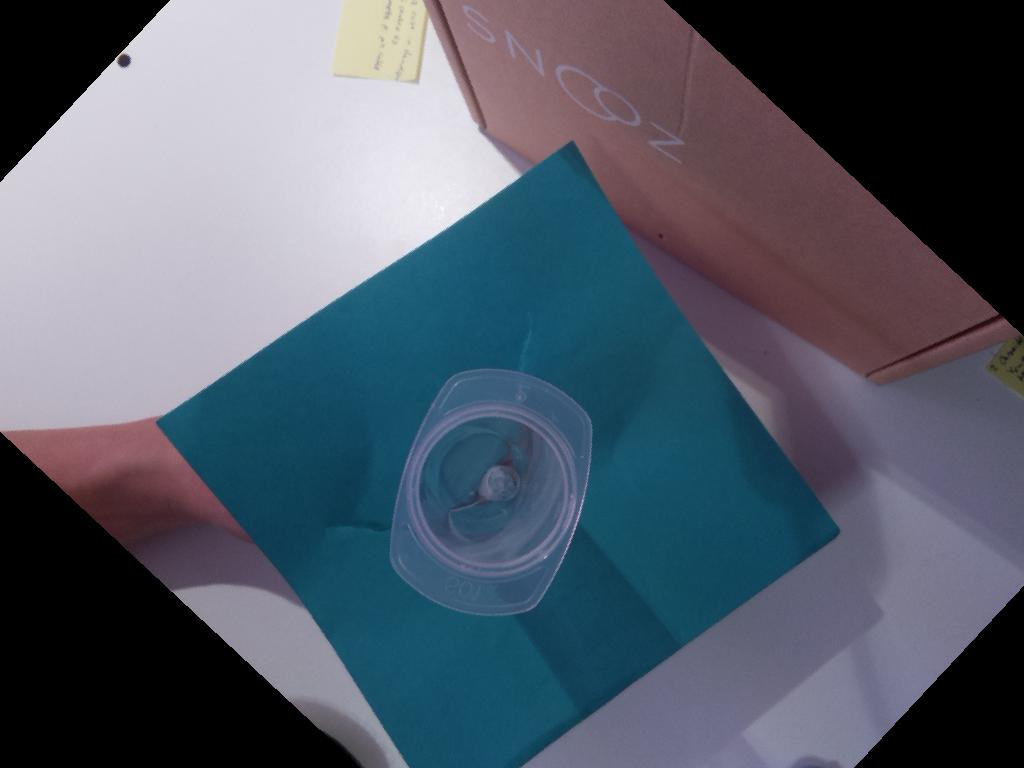clean: (383, 362, 595, 618)
